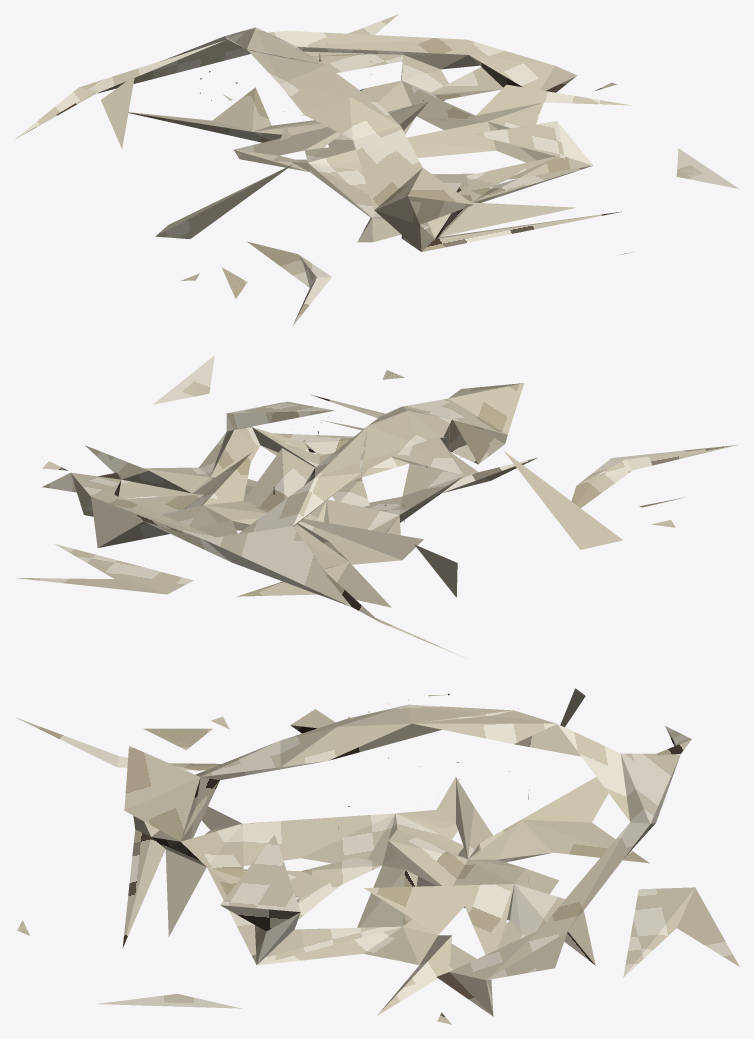
The model's file is SM_MeshyBoneScatter.fbx.
3 views of the same model, one above another, from view 1: azimuth 30°, elevation 25°; view 2: azimuth 150°, elevation 25°; view 3: azimuth 270°, elevation 25° (orthographic). The views are drawn at different scales.
Parts seen in each view (by area): view 1: SM_MeshyBoneScatter; view 2: SM_MeshyBoneScatter; view 3: SM_MeshyBoneScatter.
Part boxes in pixels (x1,y1,x2,y2): SM_MeshyBoneScatter: (15,14,738,325); SM_MeshyBoneScatter: (16,355,738,657); SM_MeshyBoneScatter: (16,688,739,1024).
Bounding box in the file's own units: 0.8741 × 0.1746 × 0.8709.
1 material, 1 textured.
